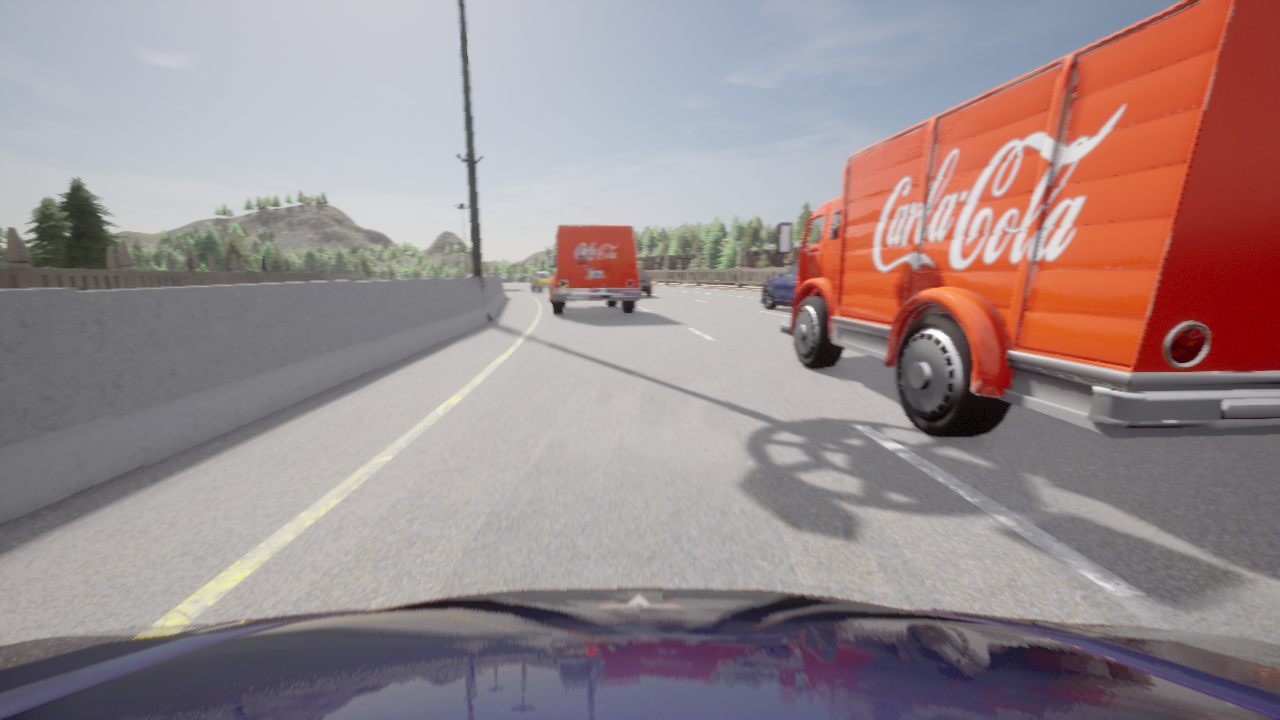cyclist: (776, 0, 1279, 438), (0, 588, 1279, 719), (549, 225, 641, 314), (761, 262, 797, 308), (637, 269, 652, 296), (531, 271, 550, 292)
